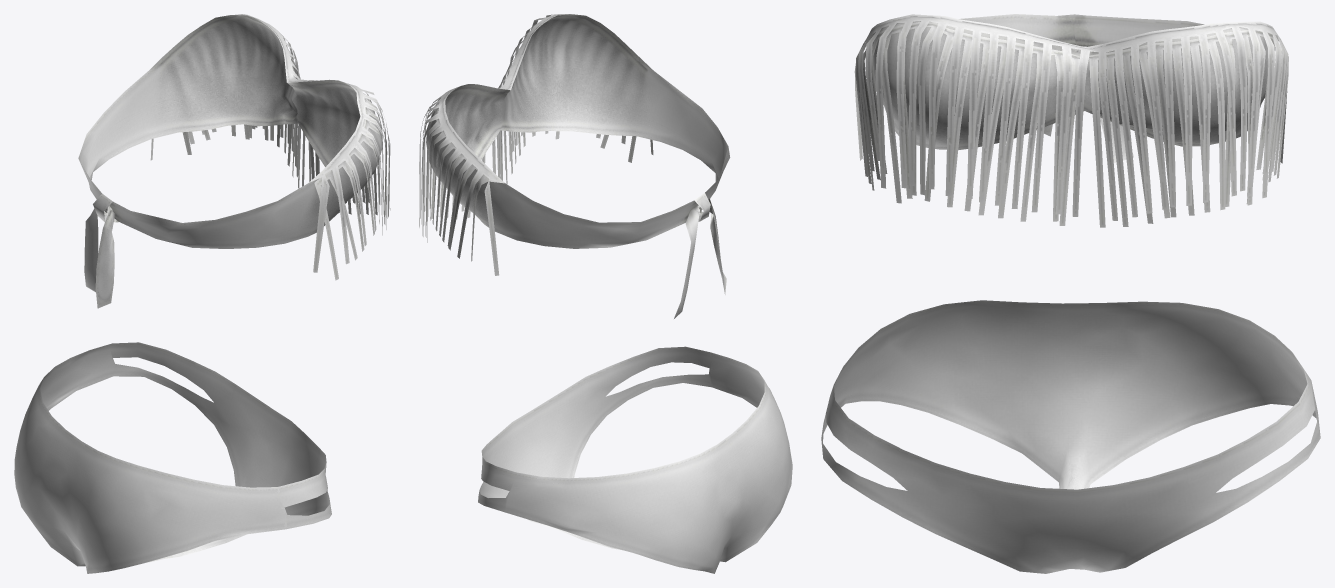
3 renders of one model, left to right at view 1: azimuth 30°, elevation 25°; view 2: azimuth 150°, elevation 25°; view 3: azimuth 270°, elevation 25°, orthographic. The views are drawn at different scales.
Visible parts, largest first — view 1: FringesBikiniSet; view 2: FringesBikiniSet; view 3: FringesBikiniSet.
Boxes of the visible parts, left/top/right/bottom form: FringesBikiniSet: left=14, top=14, right=390, bottom=573; FringesBikiniSet: left=419, top=14, right=792, bottom=573; FringesBikiniSet: left=821, top=14, right=1320, bottom=573.
Bounding box in the file's own units: 0.6825 × 1.11 × 0.8195.
1 material, 1 textured.
